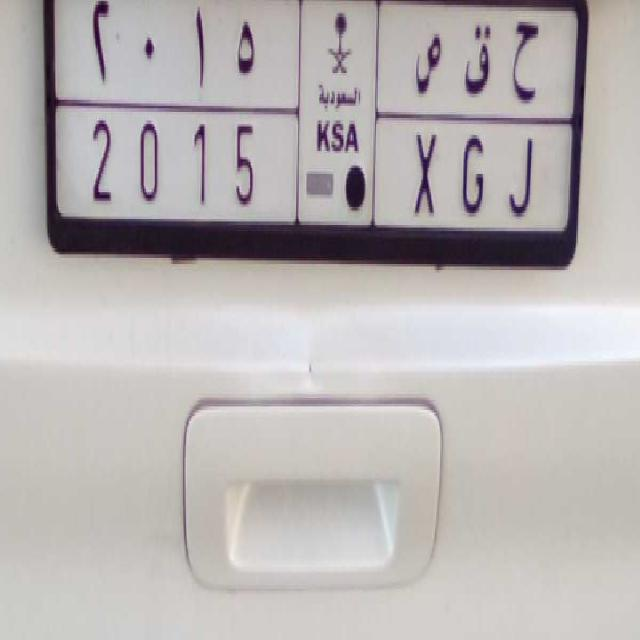license_plate: (68, 106, 551, 242)
